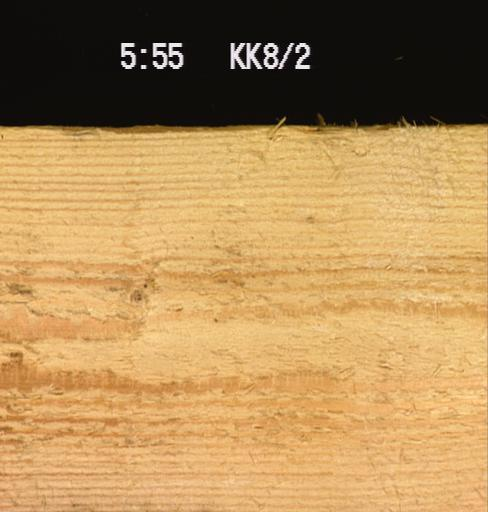small_knot: (126, 284, 144, 303)
wave: (58, 121, 418, 140)
